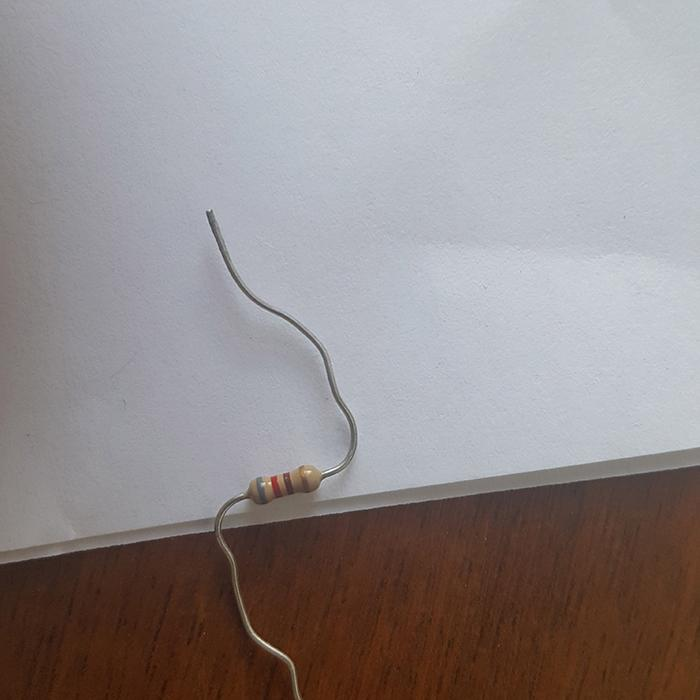resistor: (246, 463, 323, 505)
